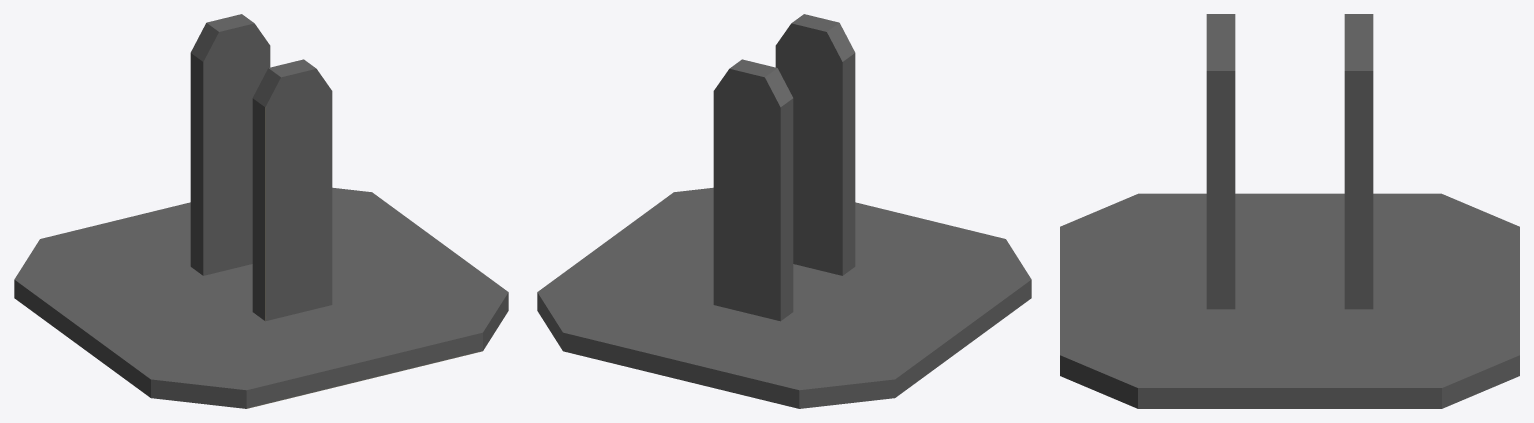
Rendered from bottom.fbx.
3 renders of one model, left to right at view 1: azimuth 30°, elevation 25°; view 2: azimuth 150°, elevation 25°; view 3: azimuth 270°, elevation 25°, orthographic. The views are drawn at different scales.
Parts seen in each view (by area): view 1: Platform; view 2: Platform; view 3: Platform.
Boxes of the visible parts, x1,y1,x2,y2 form: Platform: (14,14,508,408); Platform: (537,14,1031,408); Platform: (1060,14,1519,408).
Size of the model in its own units: 200 by 138 by 200.
1 material, 1 textured.
